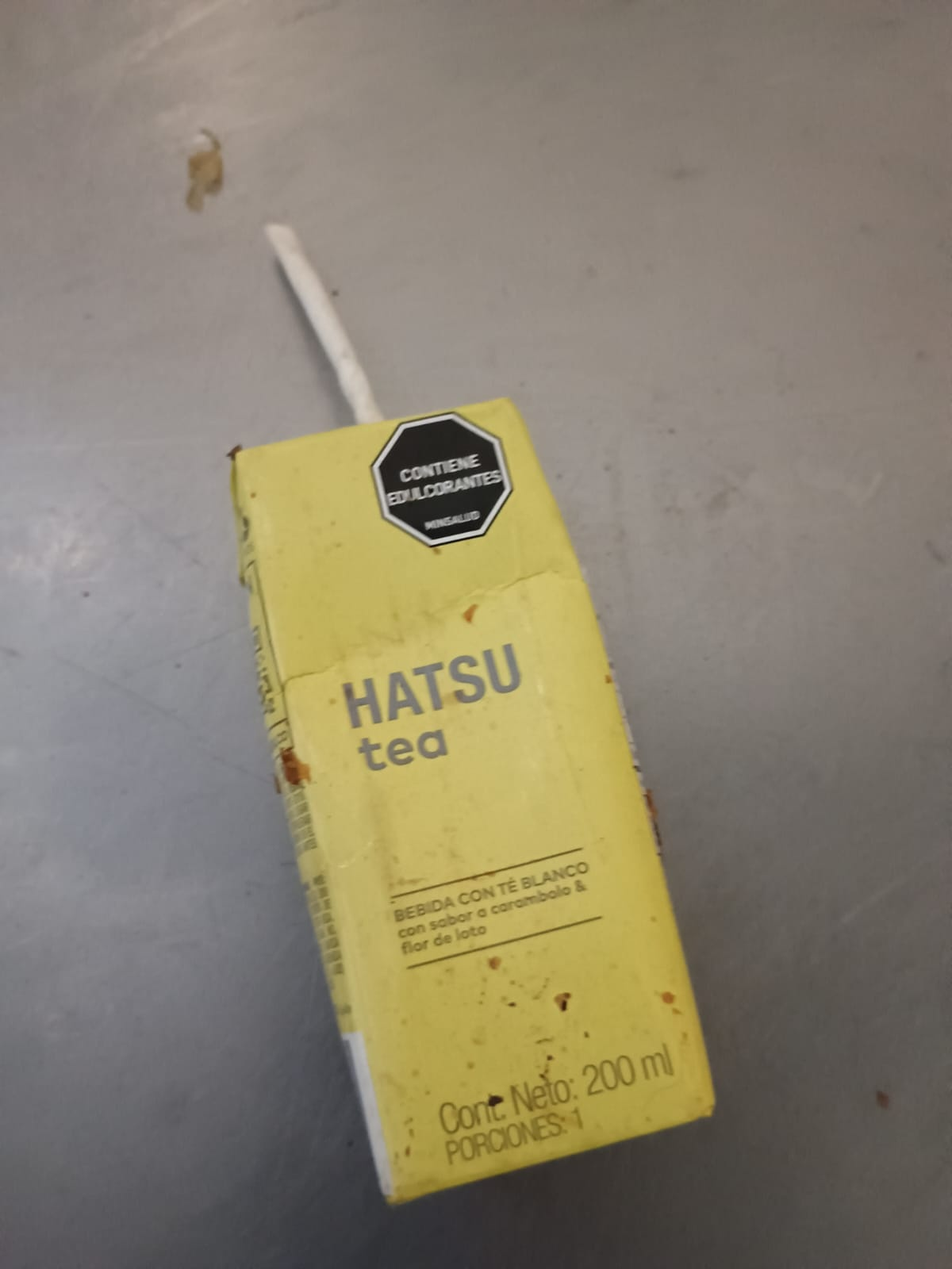Carton: (228, 396, 719, 1209)
